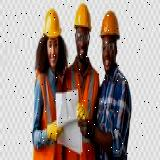Helmet: (99, 9, 120, 38), (42, 7, 62, 37), (74, 3, 92, 29)
Vest: (63, 55, 100, 160), (31, 70, 65, 160)
